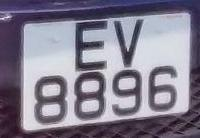6: (142, 60, 182, 116)
8: (30, 71, 73, 127), (69, 71, 110, 121)
9: (106, 65, 147, 119)
E: (71, 17, 110, 72)
V: (105, 11, 153, 69)
